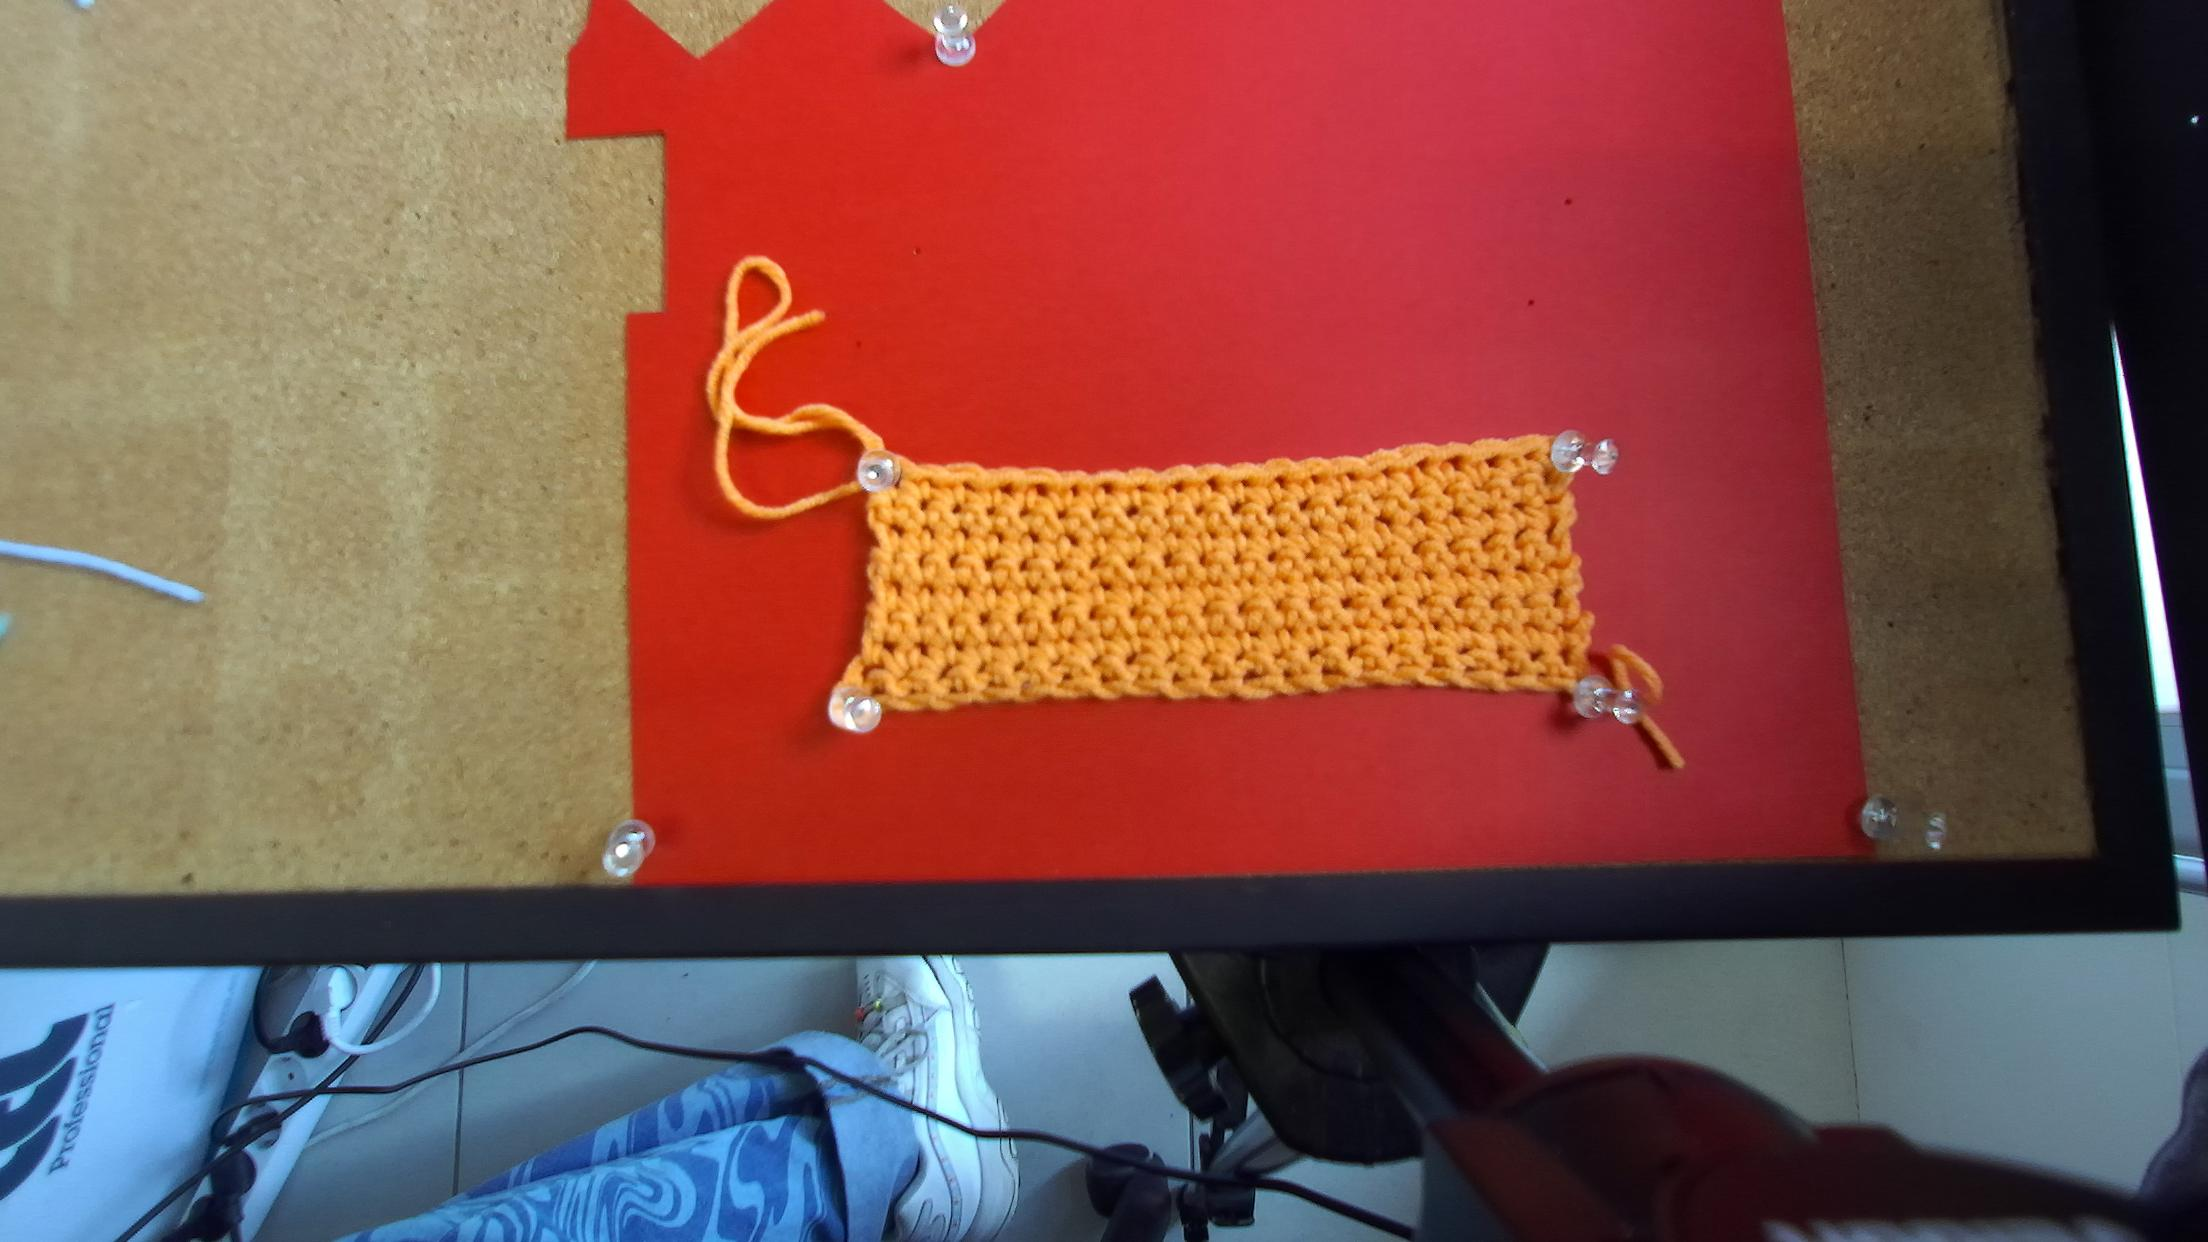hole: (1206, 476, 1222, 493), (1447, 455, 1462, 472), (1483, 453, 1501, 467), (998, 482, 1013, 496), (1033, 484, 1048, 497), (1098, 482, 1113, 496), (1171, 479, 1186, 493), (1415, 456, 1430, 470), (925, 476, 940, 488), (961, 481, 977, 491), (1239, 478, 1254, 488), (1523, 449, 1538, 459), (895, 472, 902, 490), (1069, 482, 1078, 497), (1344, 472, 1356, 482), (1380, 467, 1392, 478), (1275, 475, 1284, 488), (1310, 473, 1321, 484), (1136, 484, 1148, 491)
swatch: (846, 437, 1604, 719)
